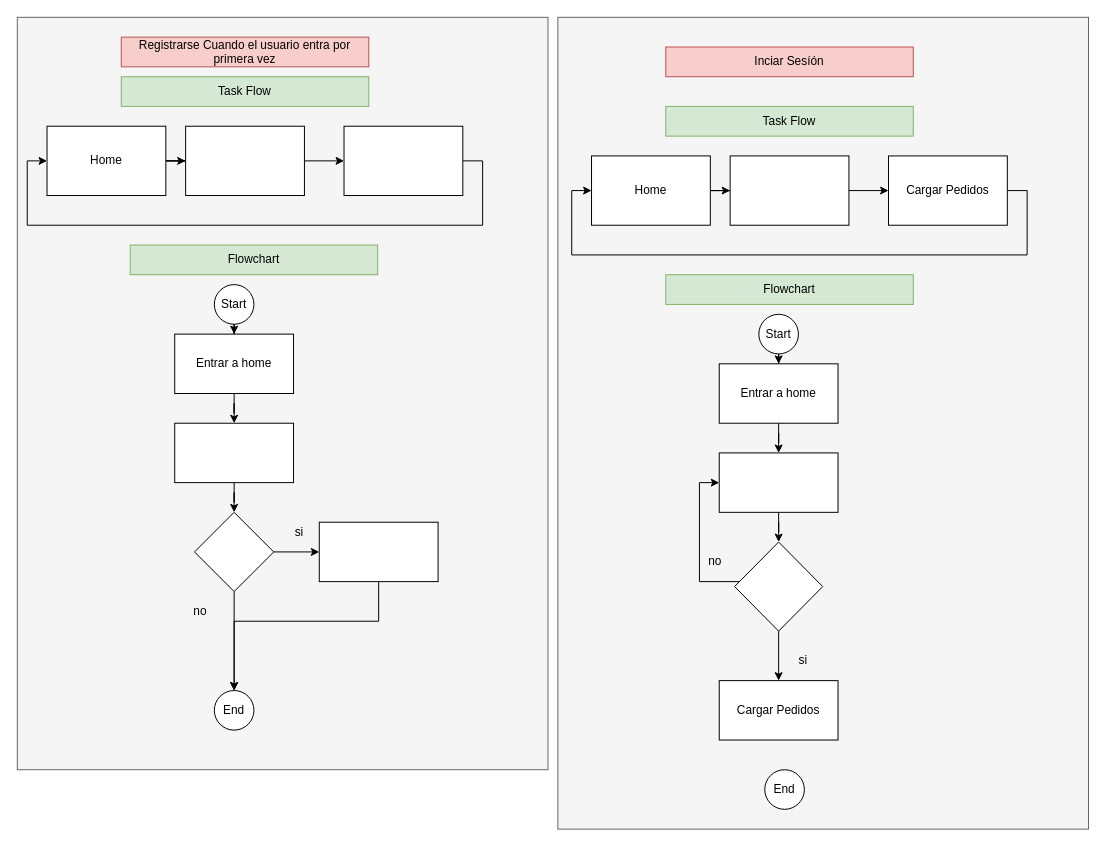
Some shapes in this 1106 by 846 pixel diagram are drawn without their labels. The shapes that lost their labels are listed below. From the top down, each one's box as (x1, y1, x2, y2) in pixels, then its label:
(185, 125, 304, 196): Registrarse(LLenar formulario)
(343, 125, 463, 196): Validar formulario(Anuncio, validar desde correo)
(729, 155, 849, 225): Inciar sesión
(174, 422, 294, 483): Registrarse
(718, 452, 838, 512): Logearse
(194, 511, 274, 592): Validar Formulario
(318, 521, 438, 582): Mostrar Anuncio de que revise su correo
(734, 541, 823, 631): Credenciales válidas
